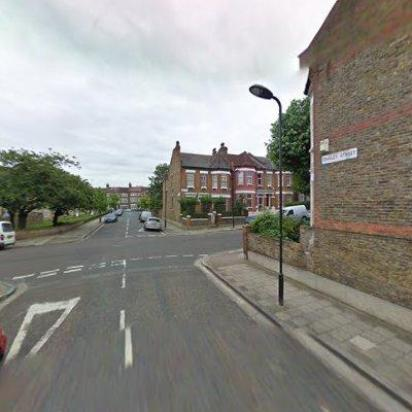moving-car: (0, 315, 7, 365)
moving-light-truck: (276, 204, 306, 226)
stationary-car-onstreet: (144, 215, 162, 232), (244, 214, 266, 226), (104, 213, 118, 223), (112, 210, 121, 216)
stationary-light-truck-onstreet: (0, 220, 15, 252), (140, 210, 152, 222)
